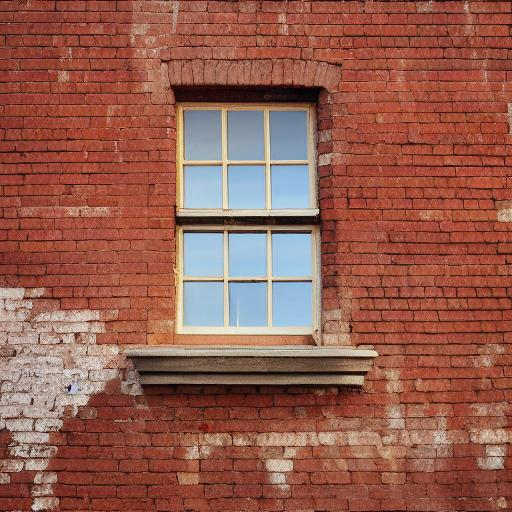Window: (124, 60, 380, 391)
